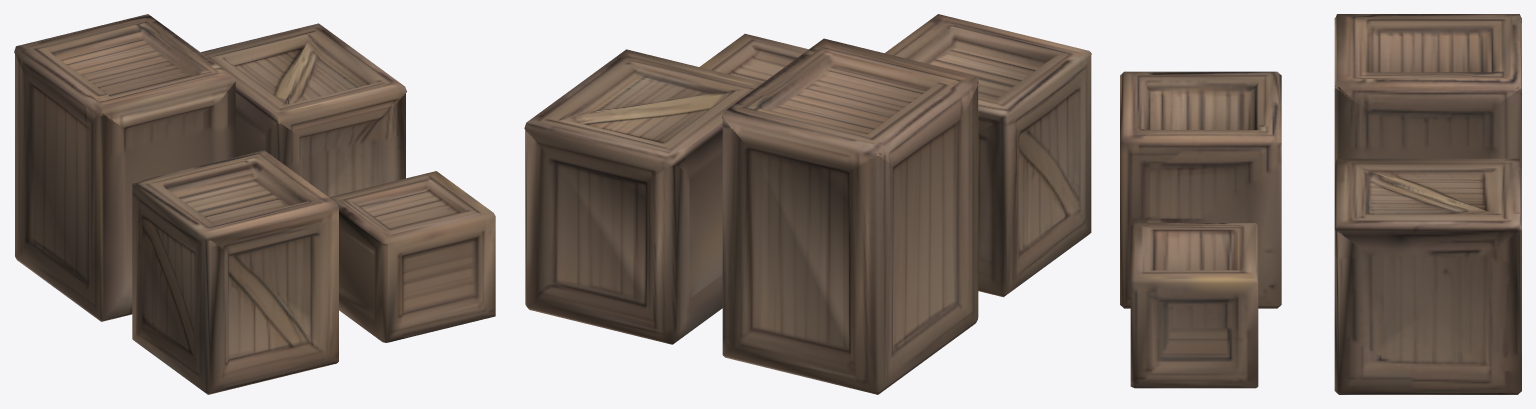
The model's file is Cajas corregidas (1).fbx.
The picture shows the model from 3 angles, left to right: view 1: azimuth 30°, elevation 25°; view 2: azimuth 150°, elevation 25°; view 3: azimuth 270°, elevation 25°; orthographic projection. The views are drawn at different scales.
Visible parts, largest first — view 1: mesh_rep_0_ori_repair.001; view 2: mesh_rep_0_ori_repair.001; view 3: mesh_rep_0_ori_repair.001.
Part boxes in pixels (x1=…): mesh_rep_0_ori_repair.001: x1=14, y1=14, x2=495, y2=394; mesh_rep_0_ori_repair.001: x1=524, y1=14, x2=1091, y2=394; mesh_rep_0_ori_repair.001: x1=1120, y1=14, x2=1521, y2=394.
Size of the model in its own units: 627 by 417 by 673.
Materials: 1 (1 with a texture image).
